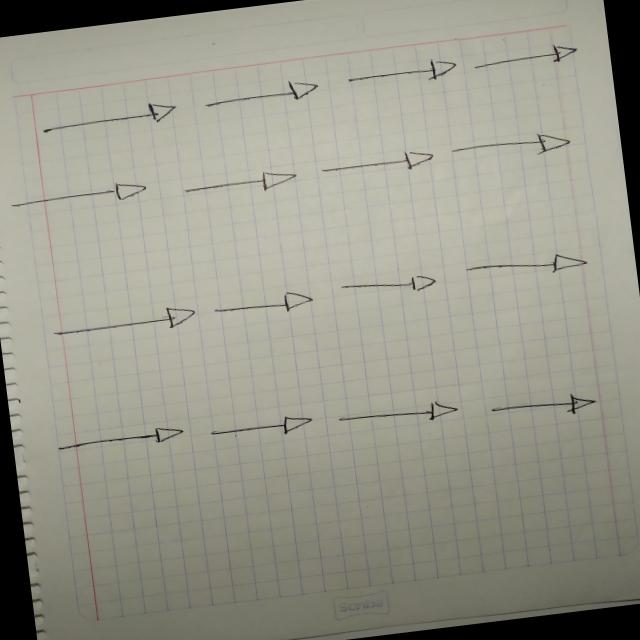arrow_line_right: (35, 296, 205, 352), (48, 414, 194, 468), (30, 96, 185, 144), (328, 391, 466, 444), (443, 120, 582, 171), (453, 242, 593, 291), (168, 159, 306, 208), (332, 48, 462, 100), (310, 138, 442, 189), (476, 379, 606, 430), (192, 74, 328, 119), (4, 178, 155, 218), (326, 262, 449, 311), (459, 32, 588, 78), (201, 406, 321, 452), (208, 284, 316, 326)
